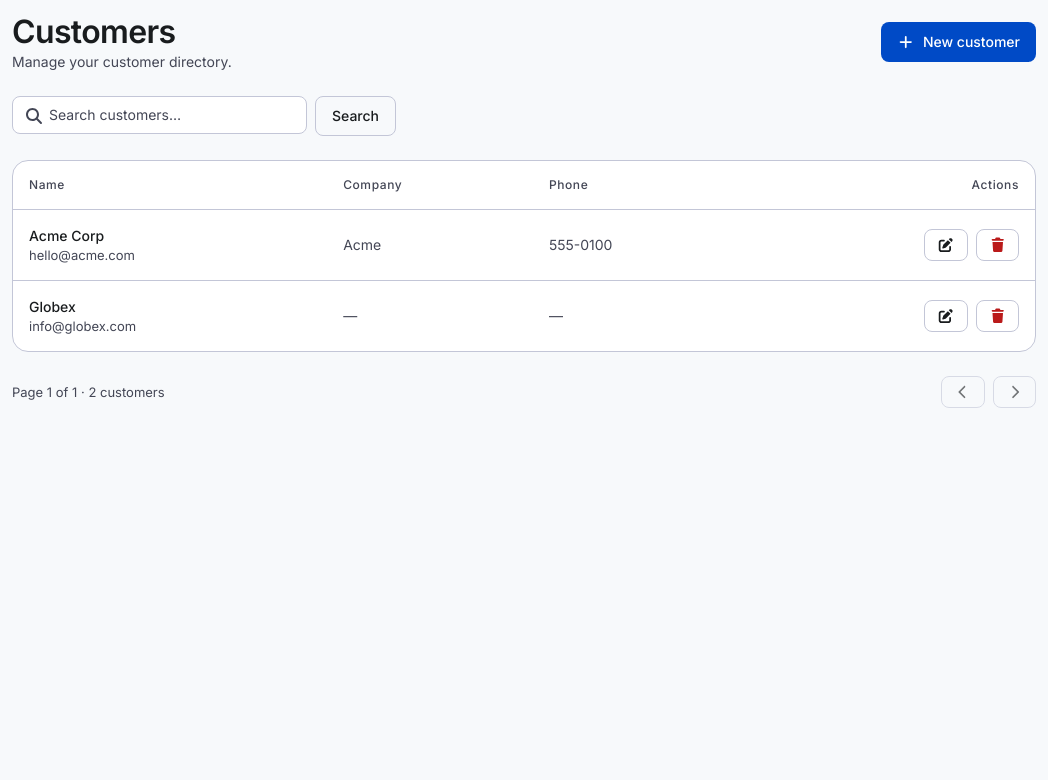
CustomersView — create flow › opens the form when New customer is clicked
Expected: the text "Acme Corp" is shown, 29,227 -> 104,244
Click the button "New customer": (959, 42) 881,22 -> 1036,62
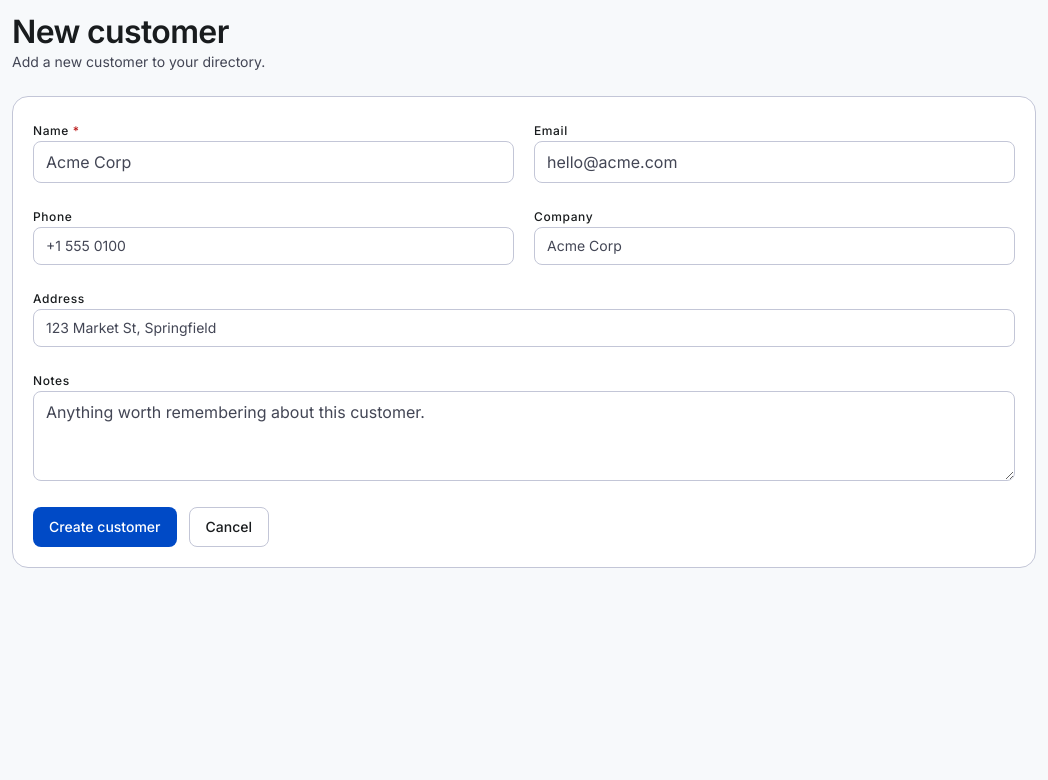
Now the button "Create customer" is shown, box 33,507 -> 176,547
